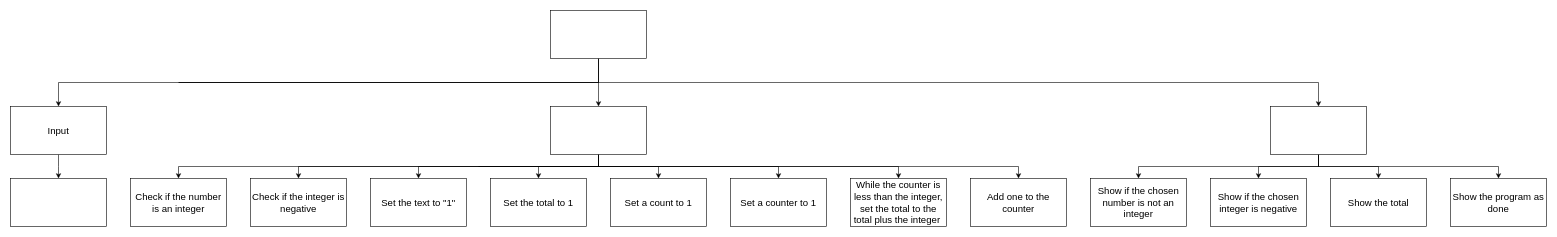
This 1557x237 diagram has some shape labels left out. The shapes that lost their labels are listed below. From the top down, each one's box as (x1, y1, x2, y2) in pixels, then its label:
(550, 10, 646, 58): Adding Numbers in Loops
(550, 106, 646, 154): Process
(1270, 106, 1366, 154): Output
(10, 178, 106, 226): Set a number
